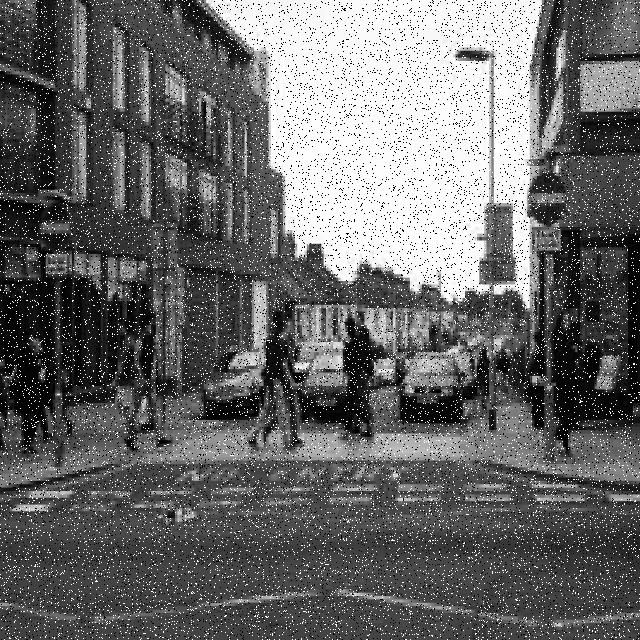no entry: (527, 170, 566, 223), (39, 203, 70, 247)
